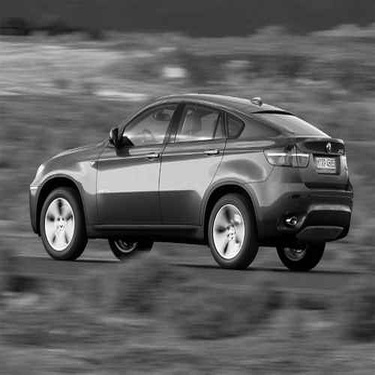car: (19, 86, 361, 273)
